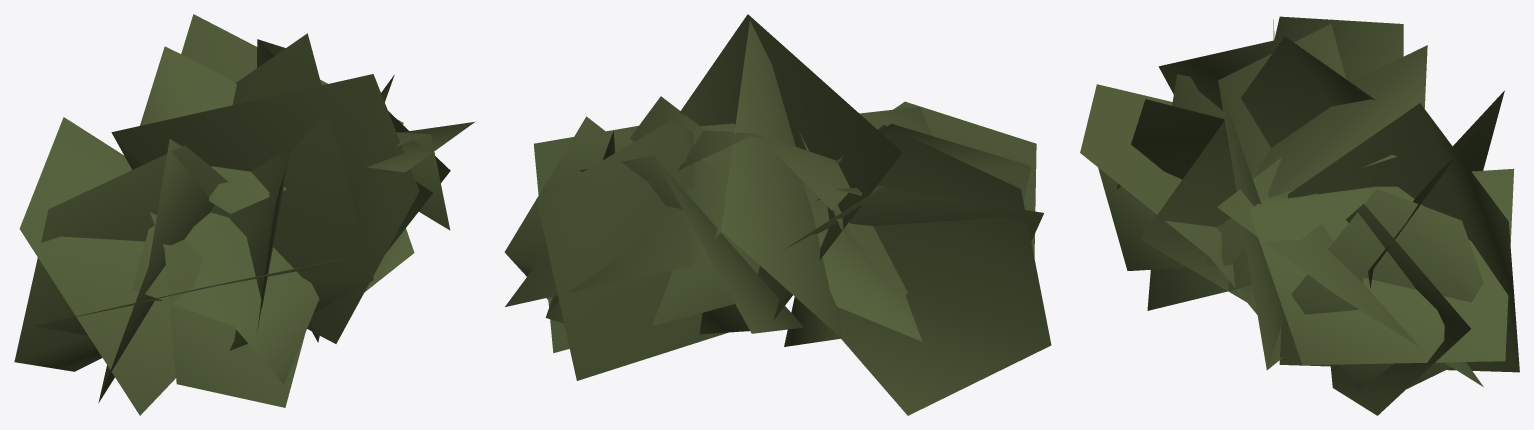
The model's file is bush1.glb.
3 views of the same model, side by side, from view 1: azimuth 30°, elevation 25°; view 2: azimuth 150°, elevation 25°; view 3: azimuth 270°, elevation 25° (orthographic). The views are drawn at different scales.
Visible parts, largest first — view 1: M_Foliage_Bushes_01_01; view 2: M_Foliage_Bushes_01_01; view 3: M_Foliage_Bushes_01_01.
Boxes of the visible parts, bbox=[...] form: M_Foliage_Bushes_01_01: bbox=[14, 14, 475, 415]; M_Foliage_Bushes_01_01: bbox=[504, 14, 1051, 415]; M_Foliage_Bushes_01_01: bbox=[1080, 16, 1519, 415].
Bounding box in the file's own units: 2.64 × 1.64 × 1.96.
